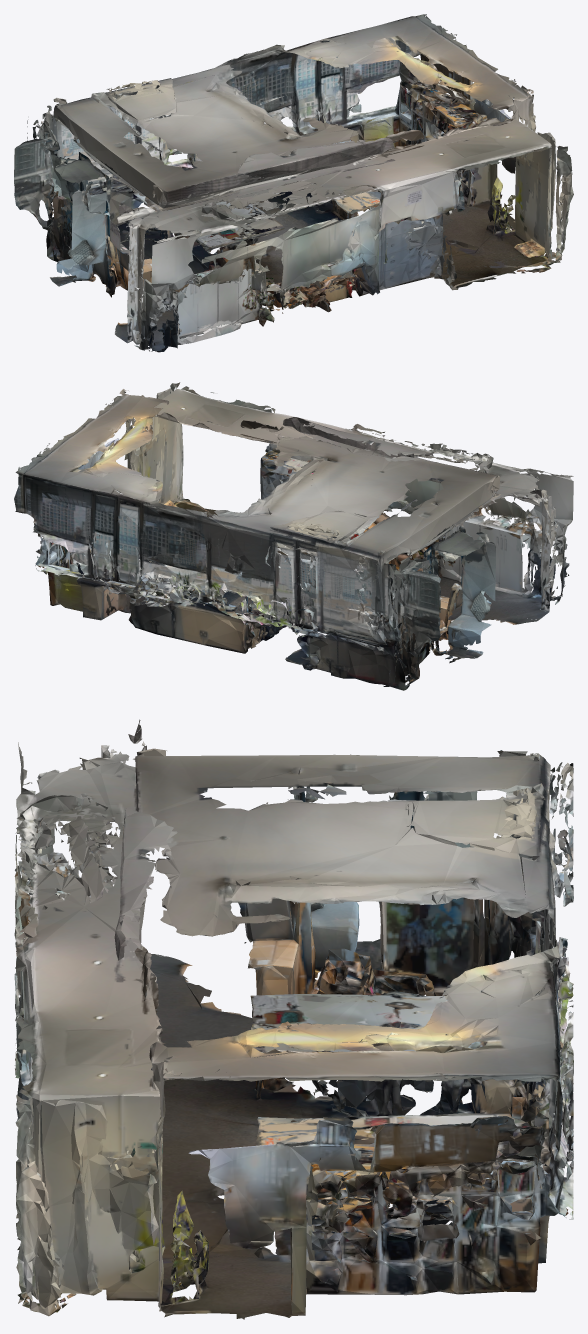
Rendered from Photography_pt2_LOW_POLY.fbx.
3 views of the same model, one above another, from view 1: azimuth 30°, elevation 25°; view 2: azimuth 150°, elevation 25°; view 3: azimuth 270°, elevation 25° (orthographic). The views are drawn at different scales.
Visible parts, largest first — view 1: Photography_pt2_LOW_POLY; view 2: Photography_pt2_LOW_POLY; view 3: Photography_pt2_LOW_POLY.
Boxes of the visible parts, x1,y1,x2,y2 form: Photography_pt2_LOW_POLY: [14, 14, 573, 352]; Photography_pt2_LOW_POLY: [14, 382, 573, 690]; Photography_pt2_LOW_POLY: [14, 719, 573, 1319].
Bounding box in the file's own units: 843 × 303 × 545.
Materials: 1 (1 with a texture image).
